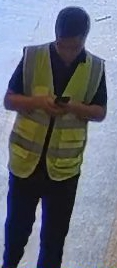hand: (37, 92, 61, 117), (59, 98, 80, 114)
phone: (53, 92, 71, 106)
